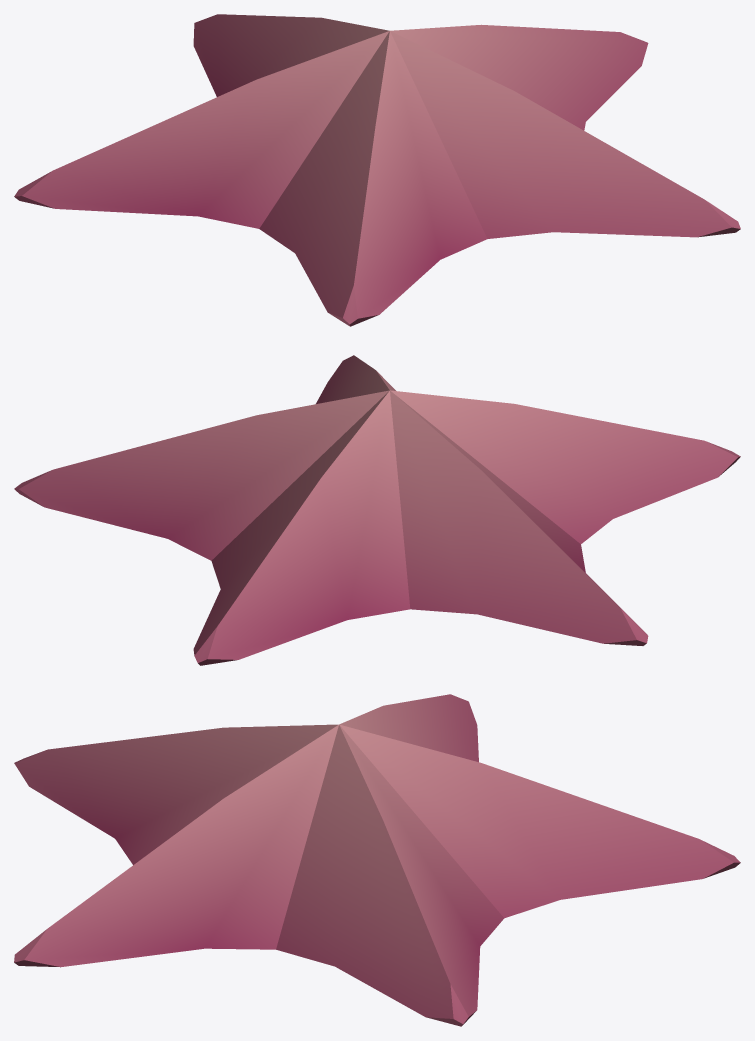
Rendered from StarFish.fbx.
3 views of the same model, one above another, from view 1: azimuth 30°, elevation 25°; view 2: azimuth 150°, elevation 25°; view 3: azimuth 270°, elevation 25° (orthographic). The views are drawn at different scales.
Parts seen in each view (by area): view 1: Circle.012; view 2: Circle.012; view 3: Circle.012.
Part boxes in pixels (x1,y1,x2,y2): Circle.012: [14, 14, 740, 326]; Circle.012: [14, 355, 740, 665]; Circle.012: [14, 694, 740, 1026].
Size of the model in its own units: 83.01 by 17.15 by 78.95.
